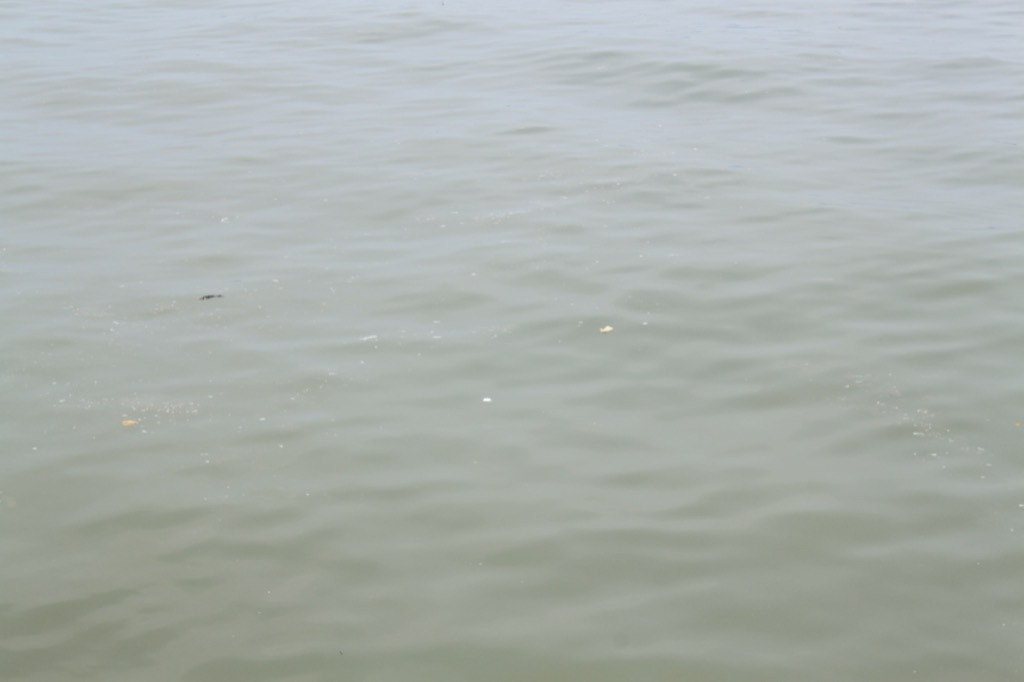organic: (191, 280, 239, 314)
plastic: (576, 304, 638, 356), (110, 403, 166, 445)
